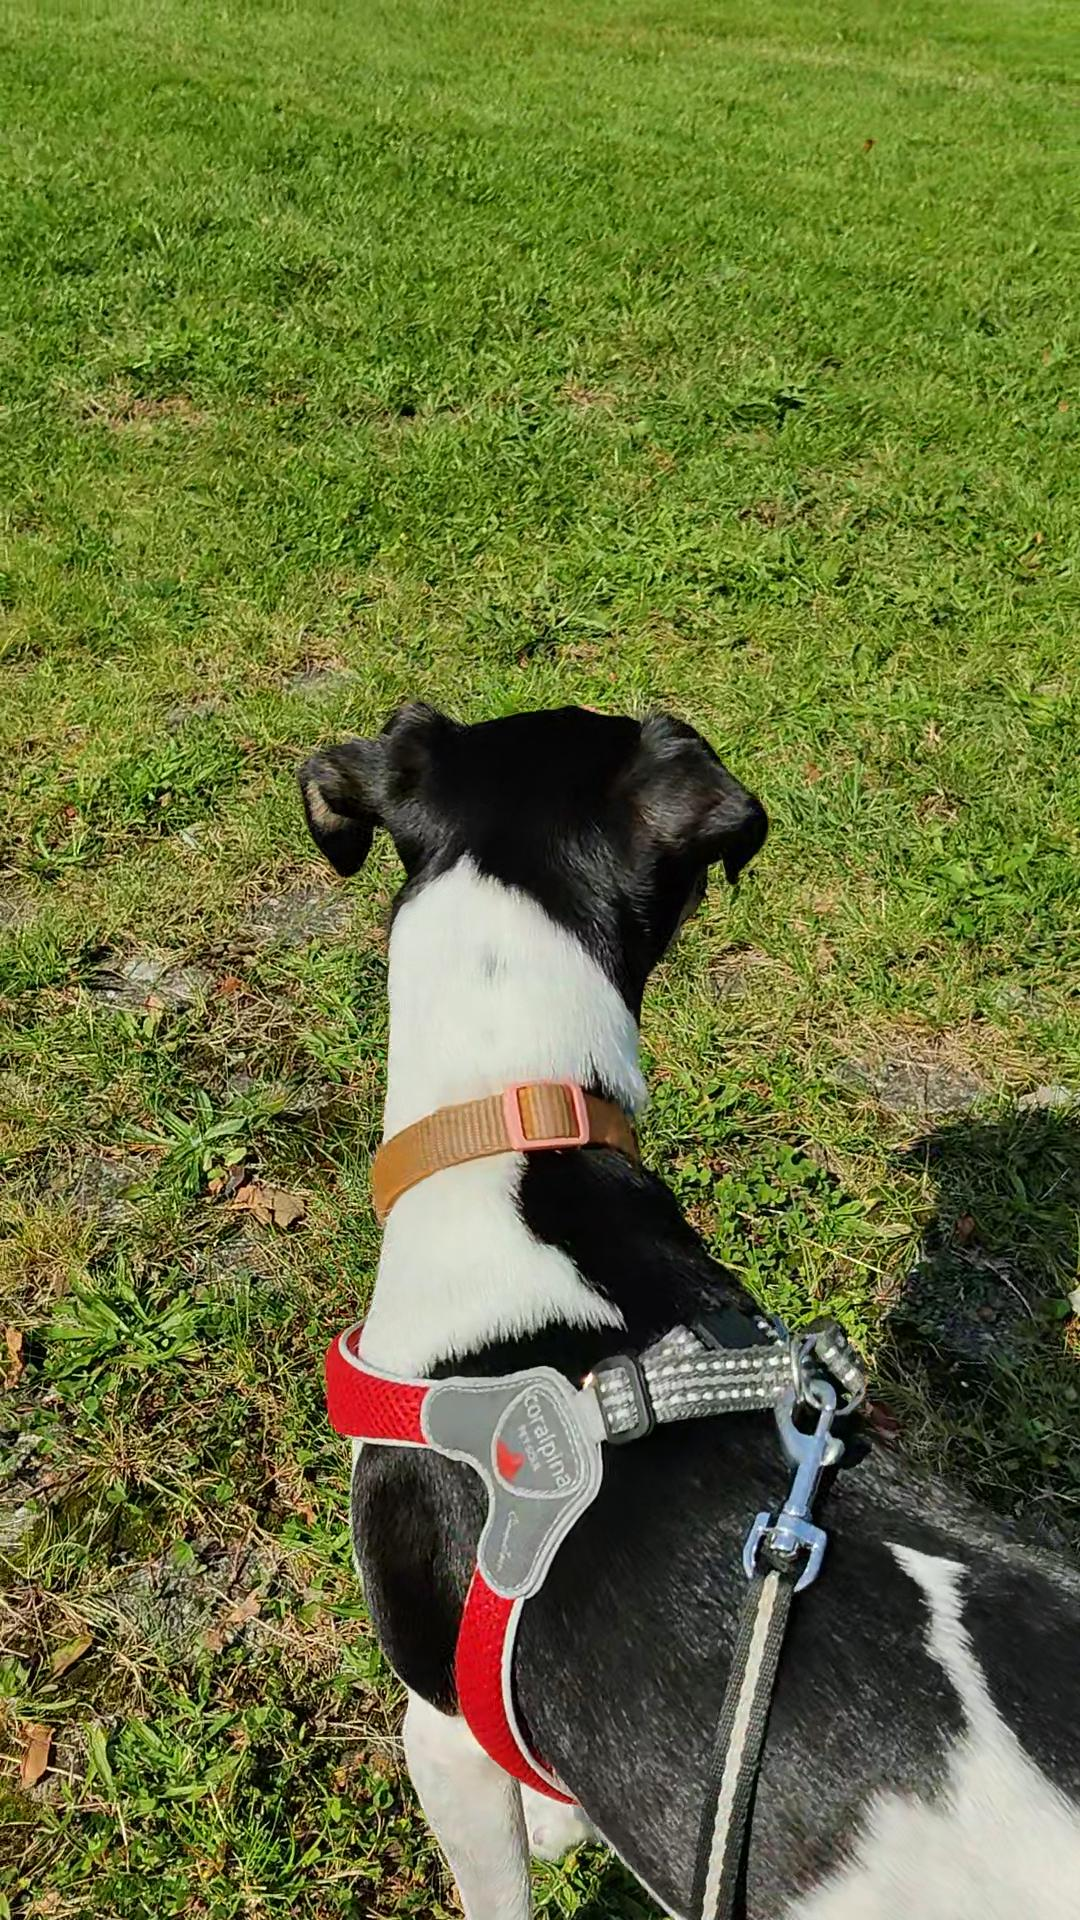Dog: (257, 676, 1079, 1919)
